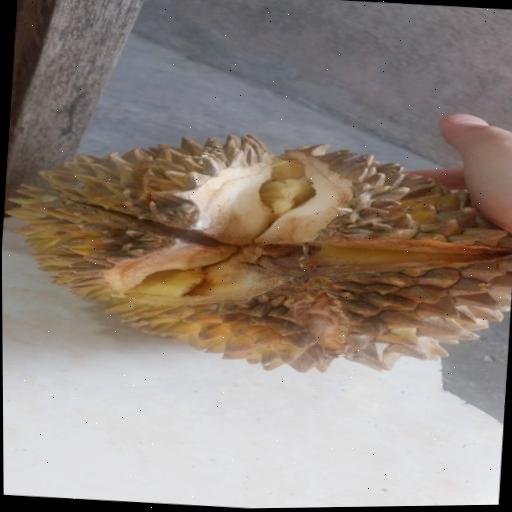rot: (1, 86, 512, 398)
